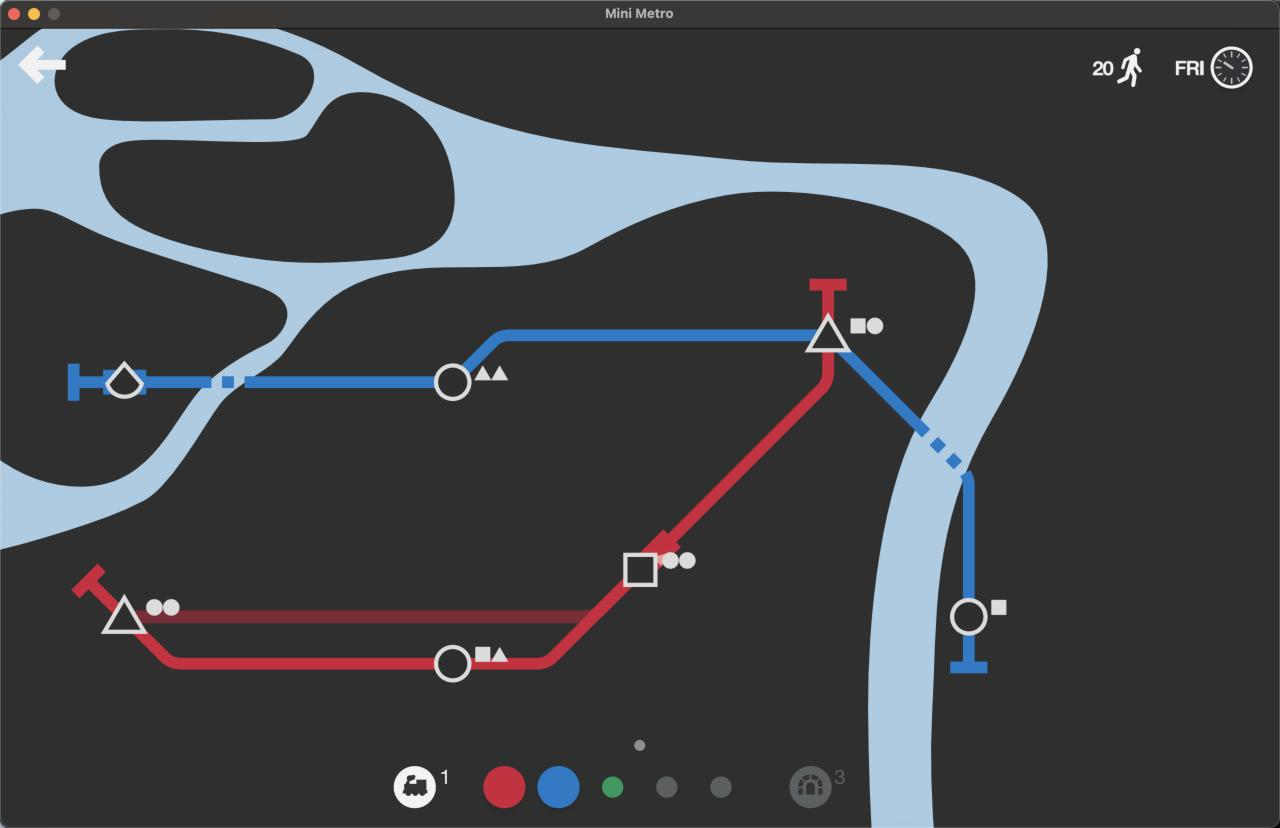CIRCLE: (949, 597, 989, 637), (433, 644, 472, 684), (433, 362, 472, 401)
SQUARE: (623, 552, 659, 588)
TRIANGLE: (101, 593, 148, 635), (805, 312, 852, 354)
WEDGE: (103, 359, 146, 399)
